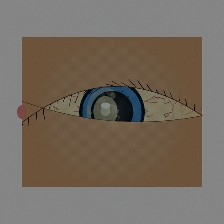corneal_ulcer: (81, 91, 130, 131)
